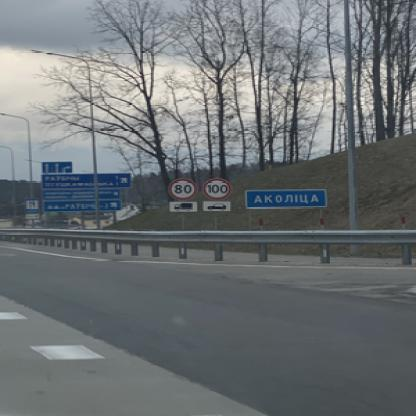speedlimit: (201, 176, 230, 198), (165, 176, 193, 198)
